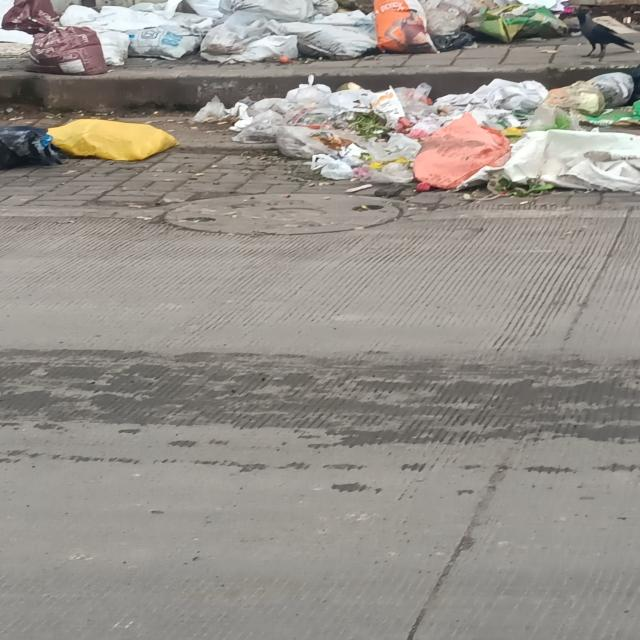garbage: (205, 73, 640, 200), (9, 1, 580, 73)
